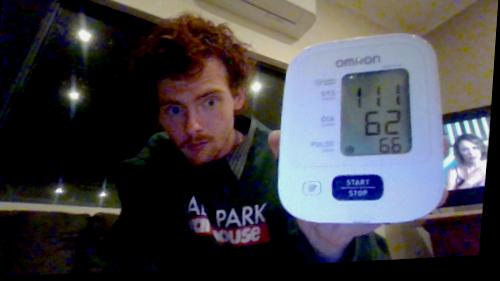bpm: (331, 66, 418, 159)
